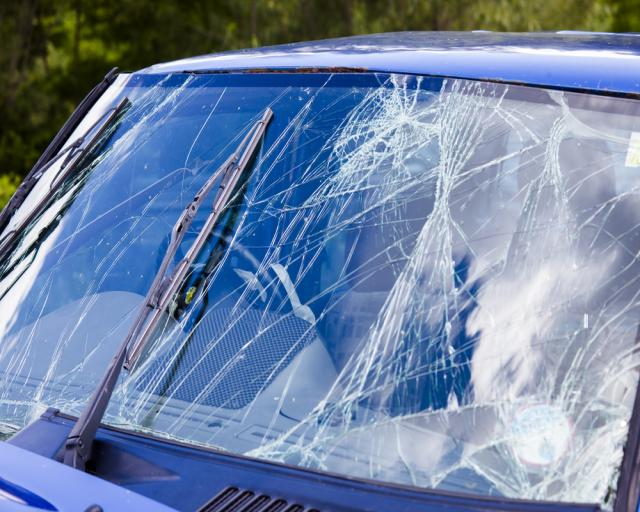glass shatter: (0, 73, 640, 511)
